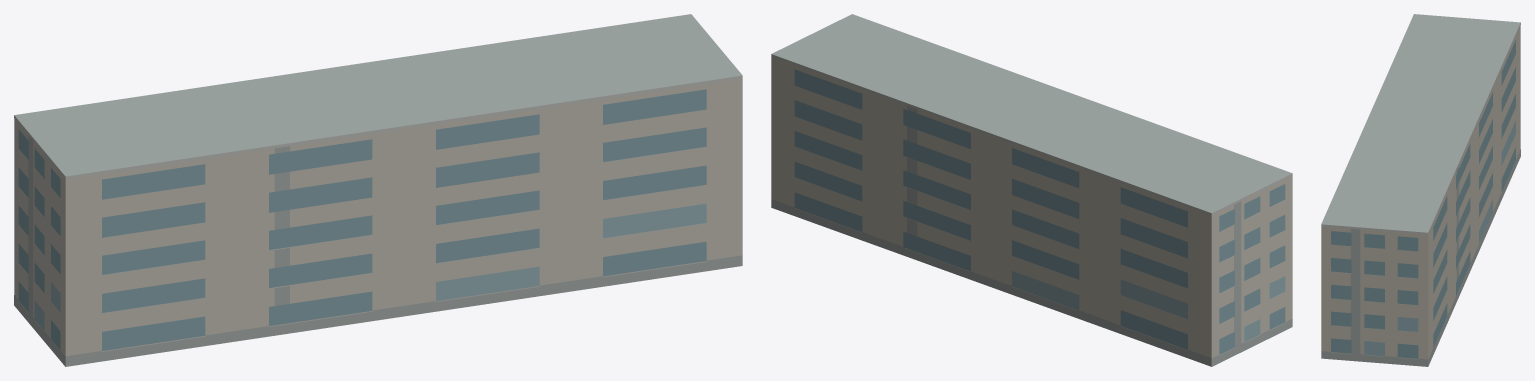
File: residential-71d1d859-568a-412c-b44d-86bdead6dd15.glb
The picture shows the model from 3 angles, left to right: view 1: azimuth 30°, elevation 25°; view 2: azimuth 150°, elevation 25°; view 3: azimuth 270°, elevation 25°; orthographic projection. The views are drawn at different scales.
Visible parts, largest first — view 1: residential-71d1d859-568a-412c-b44d-86bdead6dd15.tmp; view 2: residential-71d1d859-568a-412c-b44d-86bdead6dd15.tmp; view 3: residential-71d1d859-568a-412c-b44d-86bdead6dd15.tmp.
Part boxes in pixels (left/top/right/bottom): residential-71d1d859-568a-412c-b44d-86bdead6dd15.tmp: left=14, top=14, right=742, bottom=366; residential-71d1d859-568a-412c-b44d-86bdead6dd15.tmp: left=771, top=14, right=1292, bottom=366; residential-71d1d859-568a-412c-b44d-86bdead6dd15.tmp: left=1321, top=14, right=1520, bottom=366.
Size of the model in its own units: 53.32 by 15.25 by 20.57.
